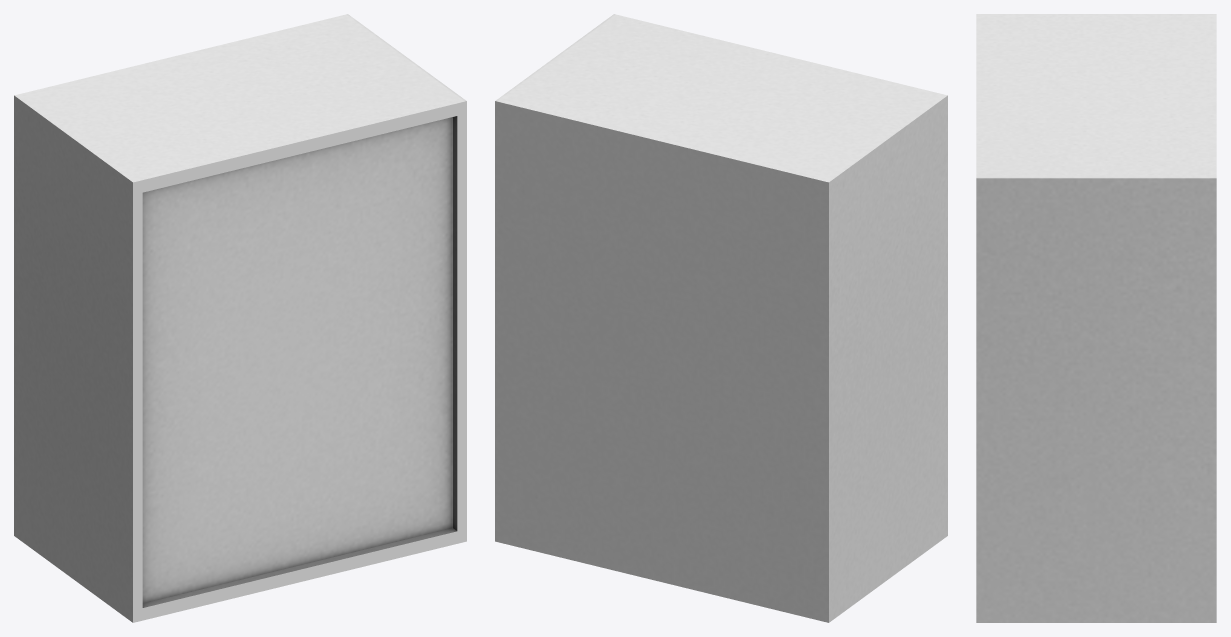
Rendered from salle_classe_muret01.fbx.
3 views of the same model, side by side, from view 1: azimuth 30°, elevation 25°; view 2: azimuth 150°, elevation 25°; view 3: azimuth 270°, elevation 25° (orthographic).
Visible parts, largest first — view 1: salle_classe_muret01; view 2: salle_classe_muret01; view 3: salle_classe_muret01.
Part boxes in pixels (<box>): salle_classe_muret01: <box>14,14,466,622</box>; salle_classe_muret01: <box>495,14,947,622</box>; salle_classe_muret01: <box>976,14,1216,622</box>.
Size of the model in its own units: 200 by 252 by 123.
